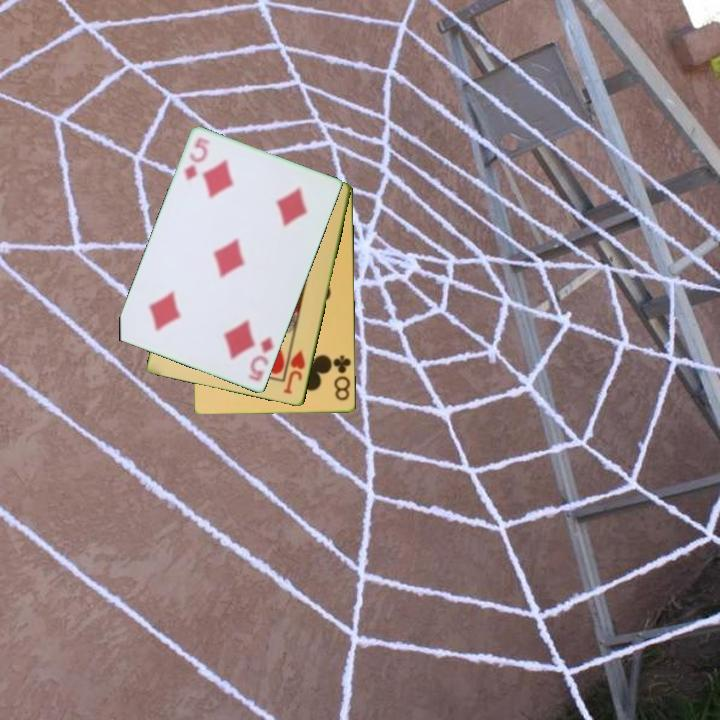5d: (181, 134, 214, 184), (245, 333, 277, 384)
8c: (328, 352, 354, 404)
Jh: (280, 347, 308, 397)
